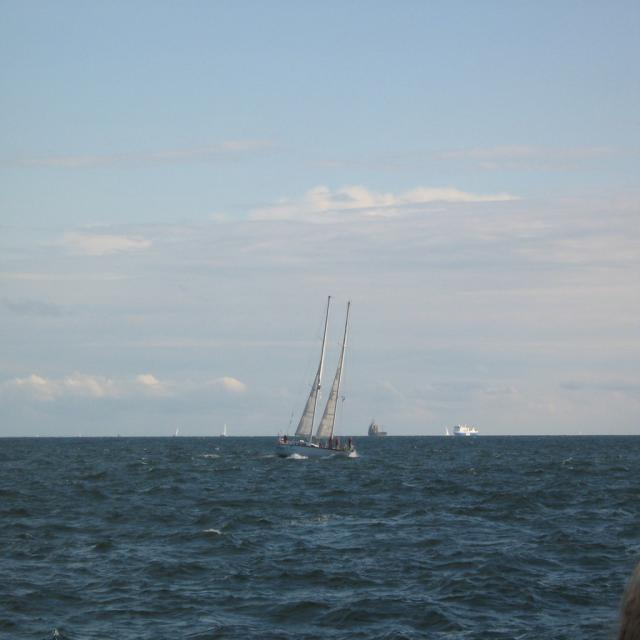Boat: (277, 292, 334, 460), (454, 422, 484, 438)
